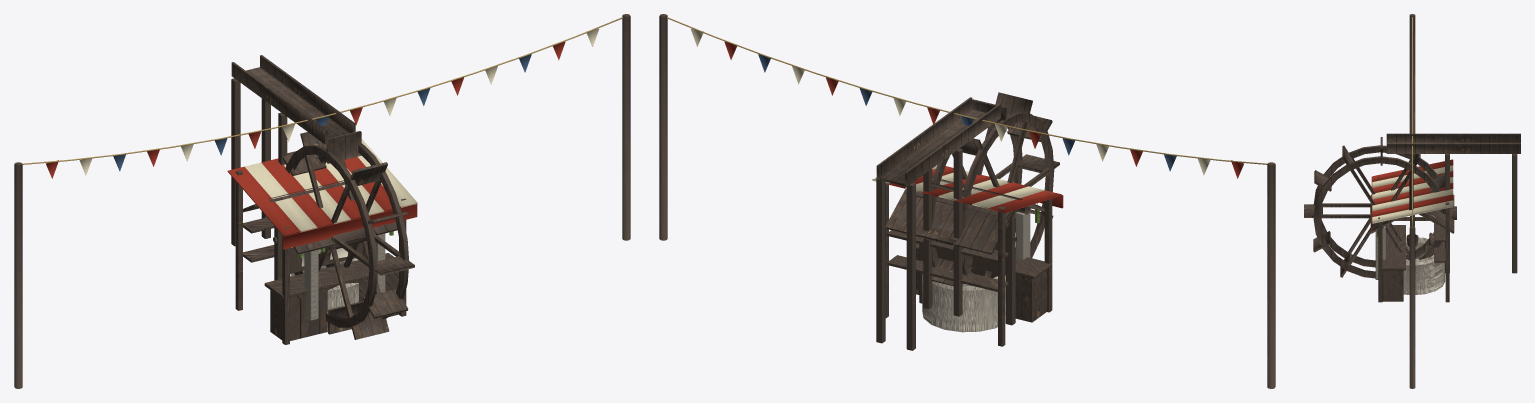
The model's file is SettlementMarket.gltf.
The picture shows the model from 3 angles, left to right: view 1: azimuth 30°, elevation 25°; view 2: azimuth 150°, elevation 25°; view 3: azimuth 270°, elevation 25°; orthographic projection. The views are drawn at different scales.
Parts seen in each view (by area): view 1: waterWheel, marketStall, bunting, well, noticeBoard; view 2: waterWheel, marketStall, bunting, well, noticeBoard; view 3: waterWheel, marketStall, well, bunting.
Boxes of the visible parts, left/top/right/bottom form: waterWheel: left=231, top=55, right=414, bottom=339; marketStall: left=227, top=139, right=417, bottom=344; bunting: left=14, top=14, right=630, bottom=388; well: left=243, top=180, right=397, bottom=332; noticeBoard: left=272, top=181, right=365, bottom=279; waterWheel: left=876, top=92, right=1059, bottom=350; marketStall: left=872, top=165, right=1063, bottom=346; bunting: left=659, top=14, right=1275, bottom=388; well: left=885, top=176, right=1044, bottom=332; noticeBoard: left=905, top=175, right=1018, bottom=324; waterWheel: left=1304, top=133, right=1520, bottom=279; marketStall: left=1371, top=159, right=1453, bottom=302; well: left=1370, top=172, right=1454, bottom=294; bunting: left=1409, top=14, right=1415, bottom=388.
Size of the model in its own units: 14.32 by 4.97 by 6.11.
Materials: 14 (14 with a texture image).
